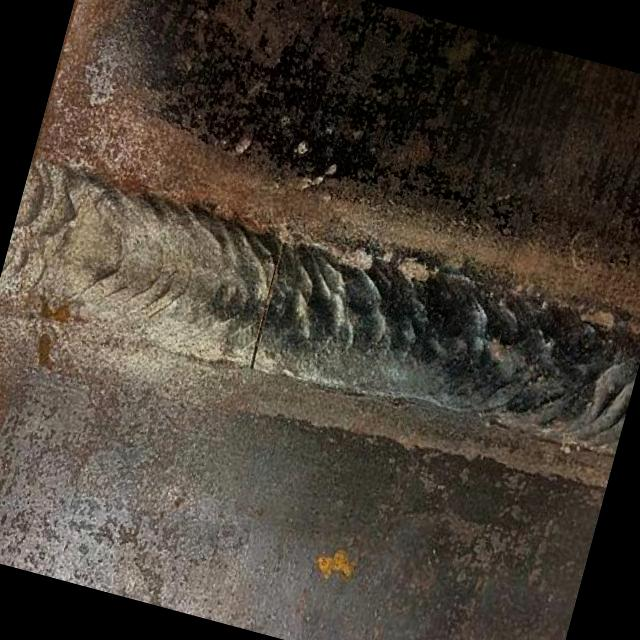defect: (244, 247, 286, 384)
